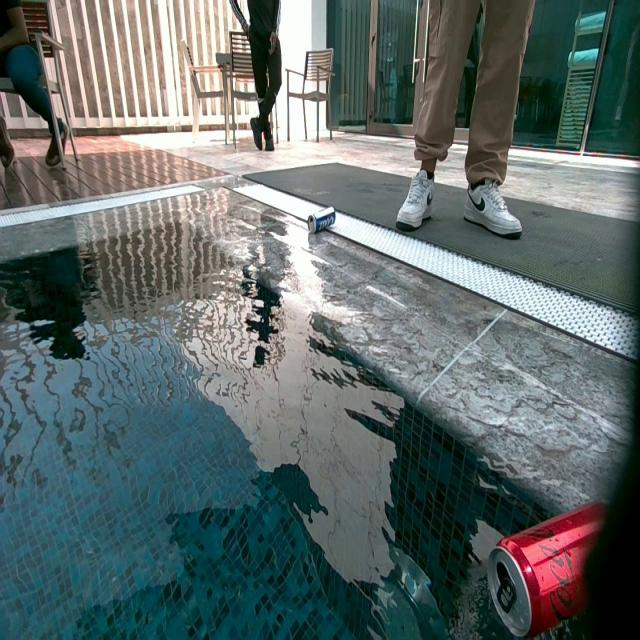Cans: (487, 505, 603, 640), (306, 203, 337, 234)
